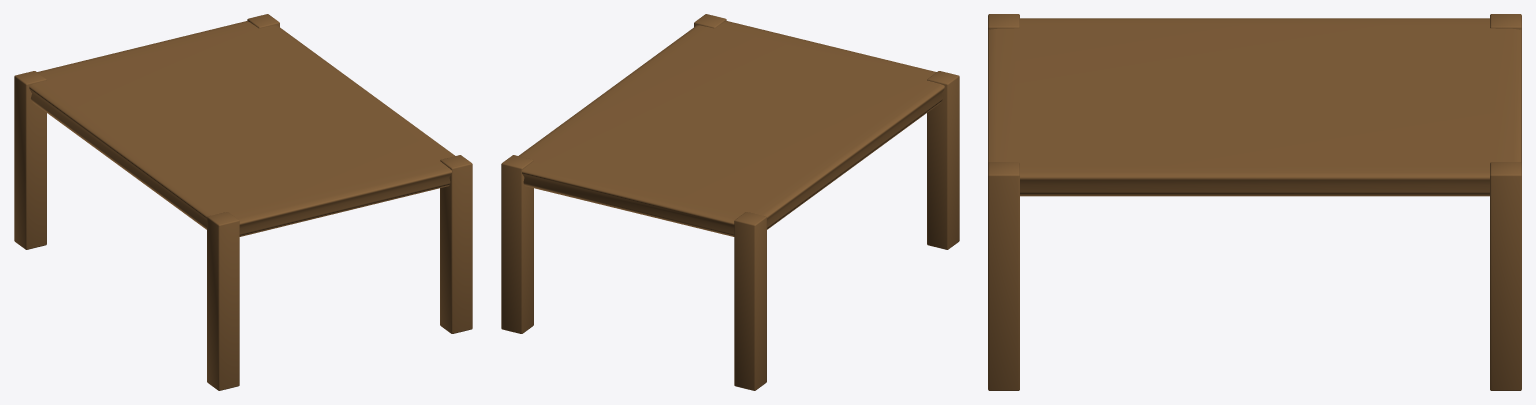
Rendered from ruokapoyta.fbx.
3 views of the same model, side by side, from view 1: azimuth 30°, elevation 25°; view 2: azimuth 150°, elevation 25°; view 3: azimuth 270°, elevation 25° (orthographic). The views are drawn at different scales.
Parts seen in each view (by area): view 1: Cube, Cube.001; view 2: Cube, Cube.001; view 3: Cube, Cube.001.
Part boxes in pixels (x1,y1,x2,y2): Cube: (29,21,454,236); Cube.001: (14,14,472,390); Cube: (519,21,944,236); Cube.001: (501,14,959,390); Cube: (988,18,1521,196); Cube.001: (988,14,1521,390).
Size of the model in its own units: 128 by 80.32 by 179.
